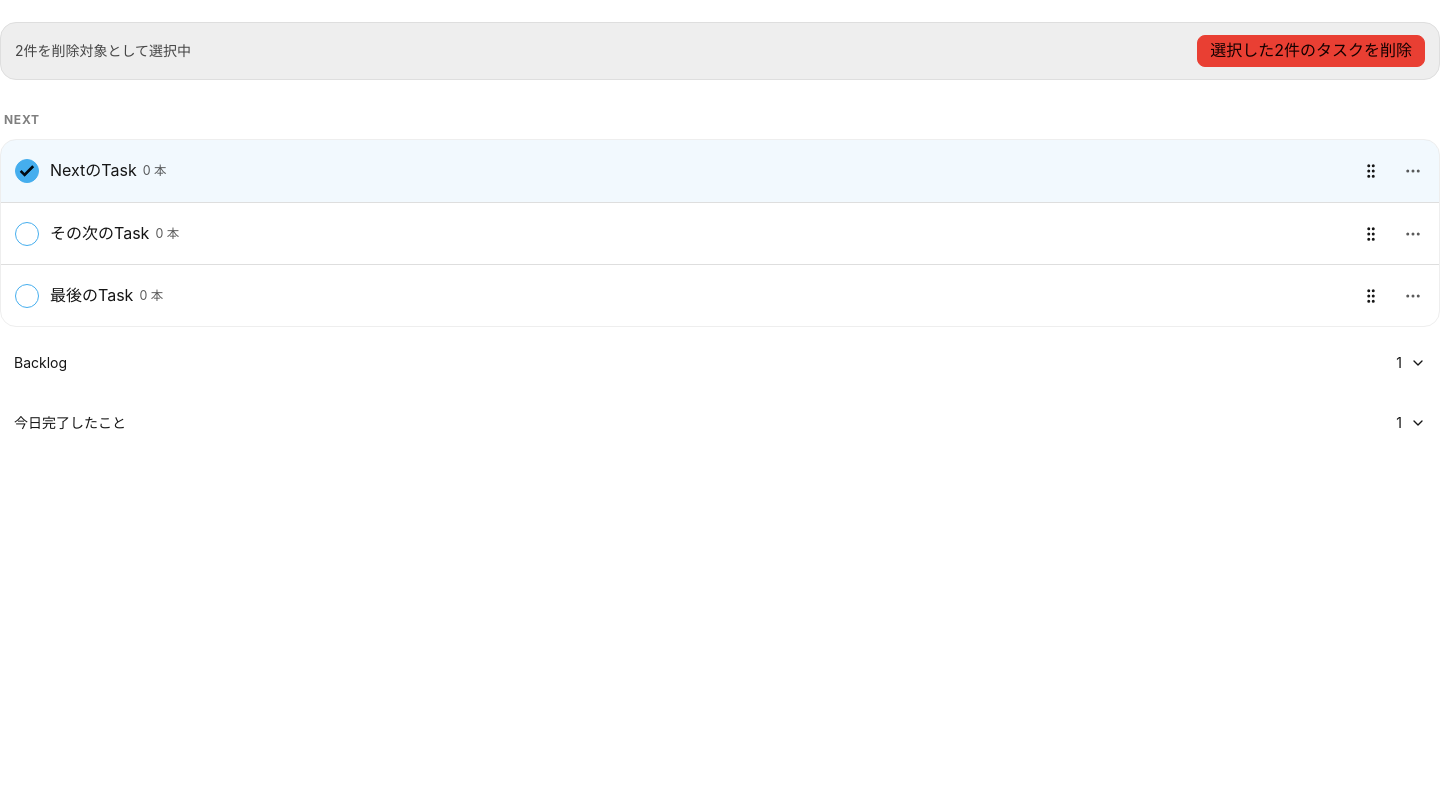
Scenario: TaskList › 成功時は実際に削除されたIDを親へ通知し、再取得する
This screenshot has width=1440, height=810.
Click the button "選択した2件のタスクを削除".
click(1311, 51)  # box [1197,35,1425,67]
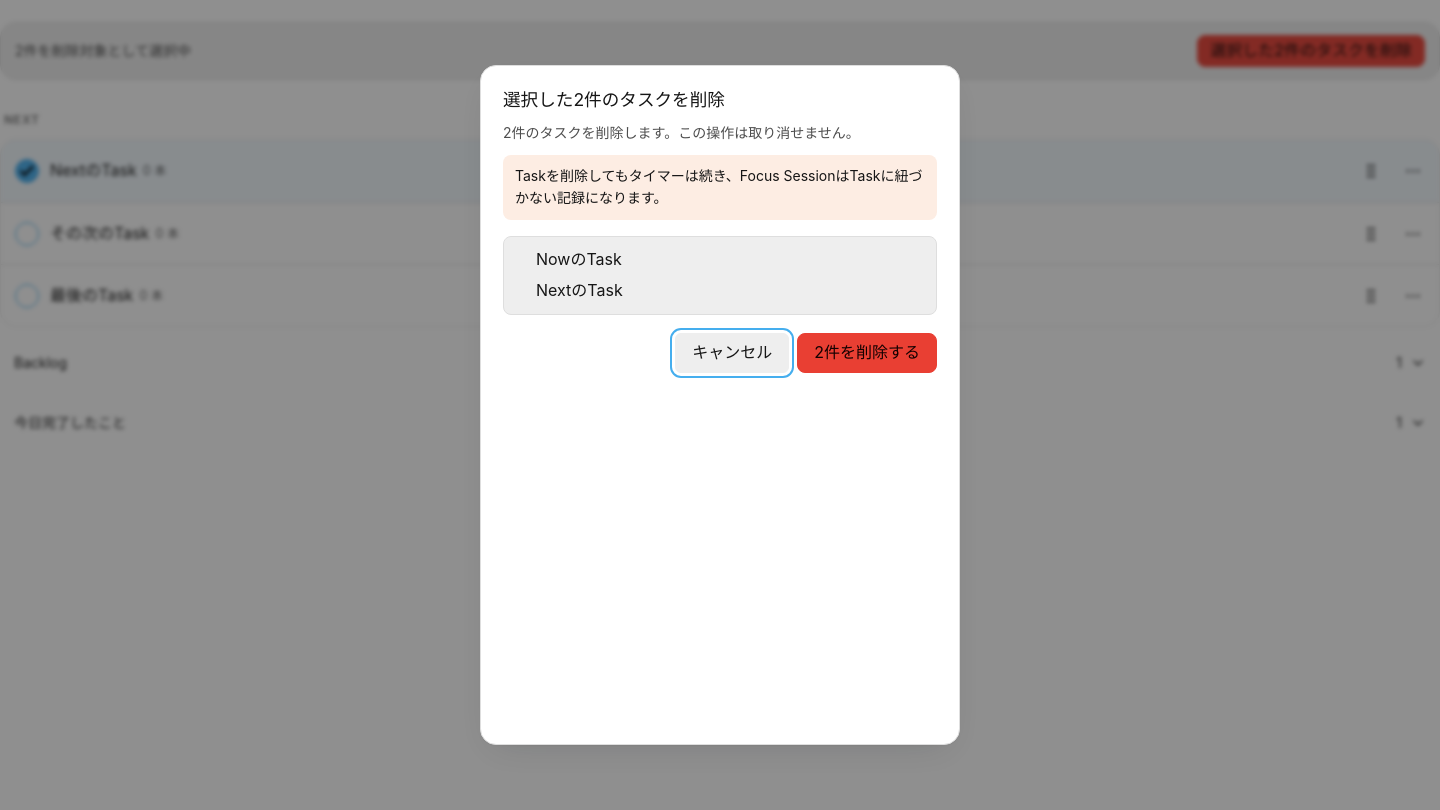
Click the button "2件を削除する".
click(867, 353)  # box [797,333,937,373]
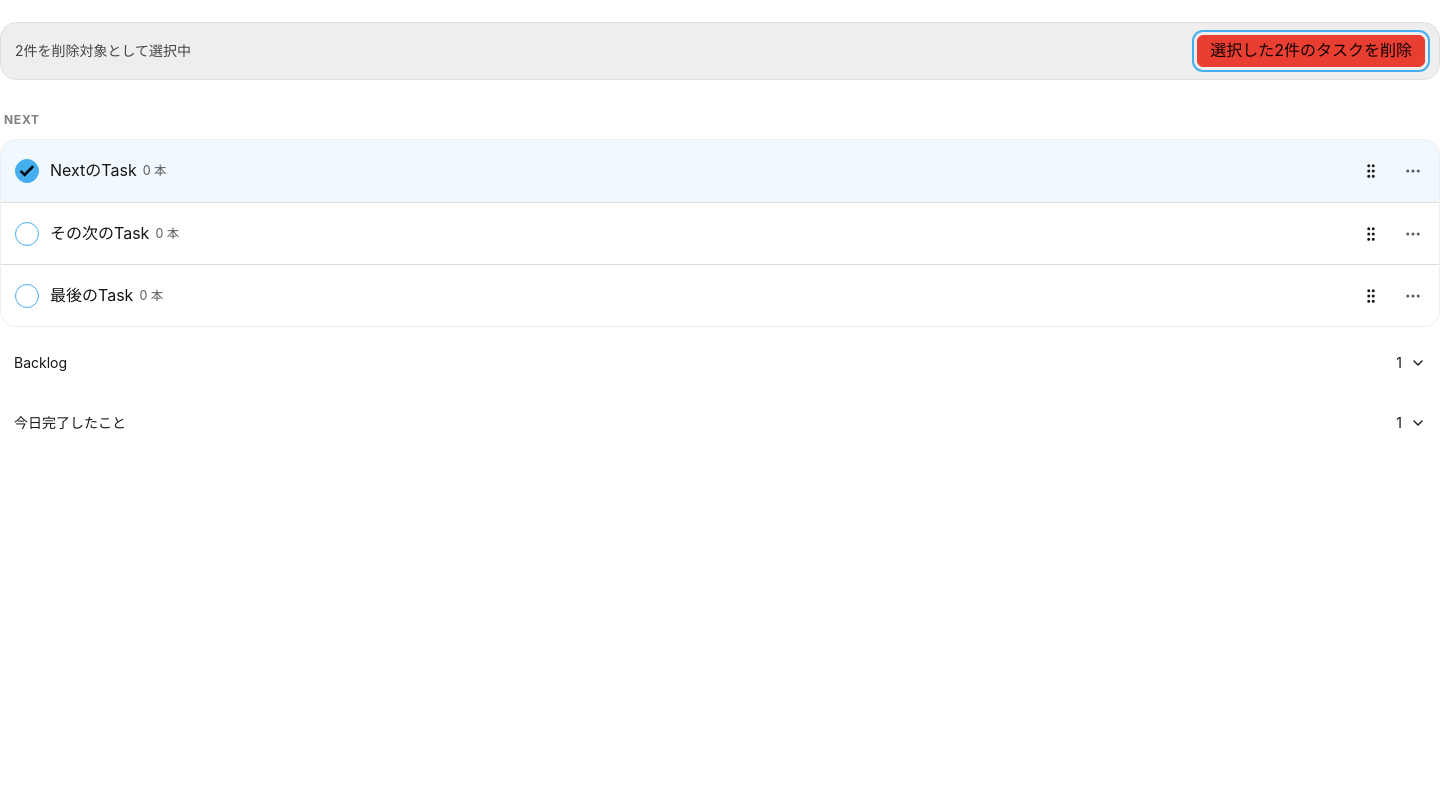
Now the dialog is gone
